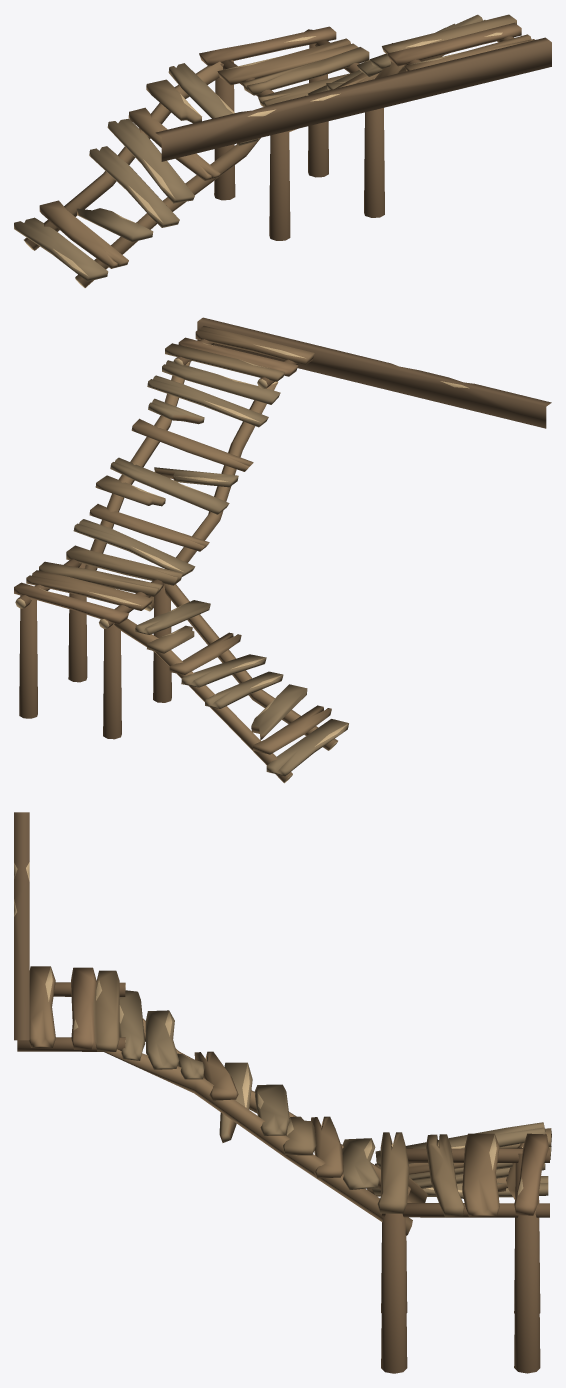
Rendered from rpgpp_av_stairs_interior_01b_4m.gltf.
3 views of the same model, one above another, from view 1: azimuth 30°, elevation 25°; view 2: azimuth 150°, elevation 25°; view 3: azimuth 270°, elevation 25° (orthographic). The views are drawn at different scales.
Visible parts, largest first — view 1: rpgpp_av_stairs_interior_01b_4m; view 2: rpgpp_av_stairs_interior_01b_4m; view 3: rpgpp_av_stairs_interior_01b_4m.
Part boxes in pixels (bbox=[...]): rpgpp_av_stairs_interior_01b_4m: bbox=[14, 14, 551, 287]; rpgpp_av_stairs_interior_01b_4m: bbox=[14, 317, 551, 783]; rpgpp_av_stairs_interior_01b_4m: bbox=[14, 812, 551, 1373].
Size of the model in its own units: 0.0589 by 0.0418 by 0.0587.
Materials: 1 (1 with a texture image).
